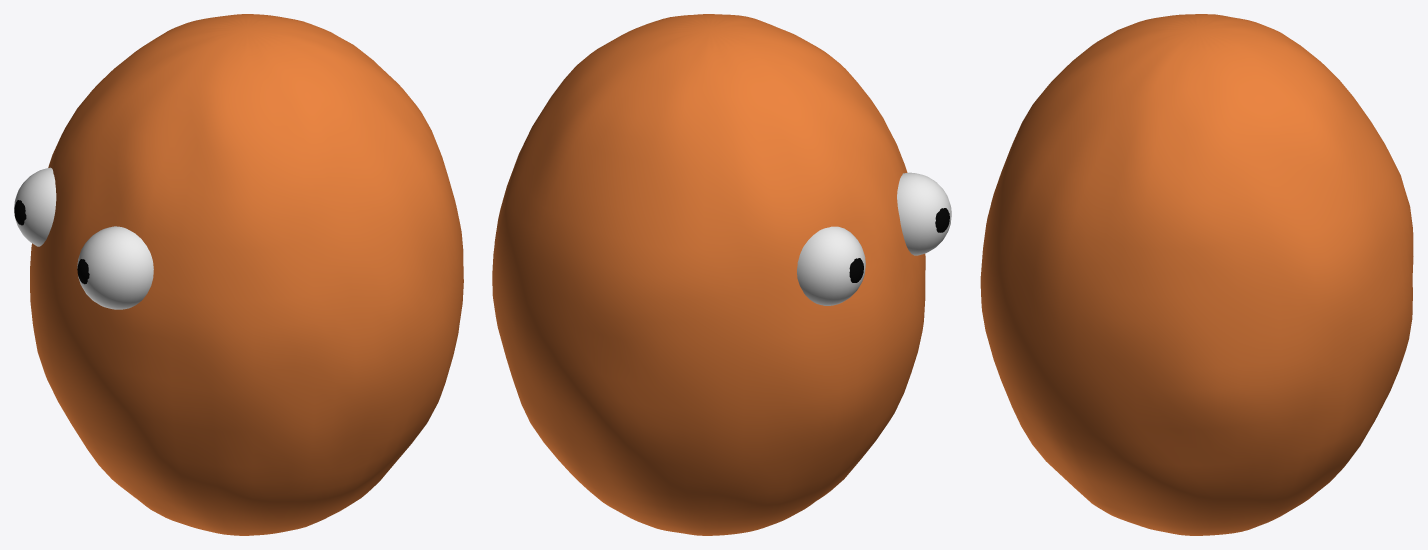
Rendered from Wallnut.fbx.
The picture shows the model from 3 angles, left to right: view 1: azimuth 30°, elevation 25°; view 2: azimuth 150°, elevation 25°; view 3: azimuth 270°, elevation 25°; orthographic projection.
Visible parts, largest first — view 1: Sphere, Sphere.003, Sphere.001; view 2: Sphere, Sphere.001, Sphere.003; view 3: Sphere.
Part boxes in pixels (<box>): Sphere: <box>30,14,463,535</box>; Sphere.003: <box>77,226,153,309</box>; Sphere.001: <box>14,167,56,246</box>; Sphere: <box>492,14,925,535</box>; Sphere.001: <box>797,226,865,305</box>; Sphere.003: <box>897,172,951,255</box>; Sphere: <box>980,14,1413,535</box>.
Size of the model in its own units: 212 by 255 by 204.
